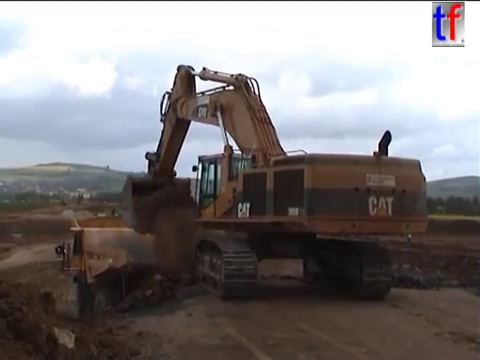excavator: (115, 61, 433, 304), (102, 205, 131, 222)
truck: (52, 213, 218, 321), (58, 199, 68, 208), (75, 197, 83, 206)
worker: (402, 219, 418, 246)
